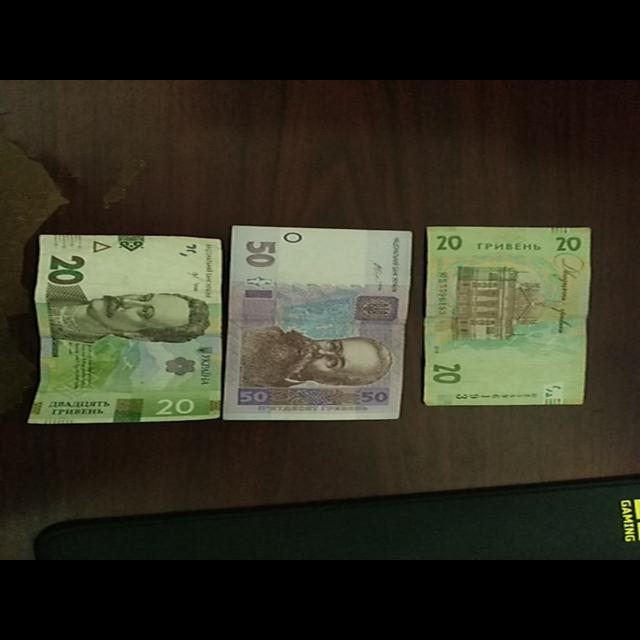20uah: (26, 232, 220, 418), (426, 226, 590, 404)
50uah: (224, 227, 414, 419)
